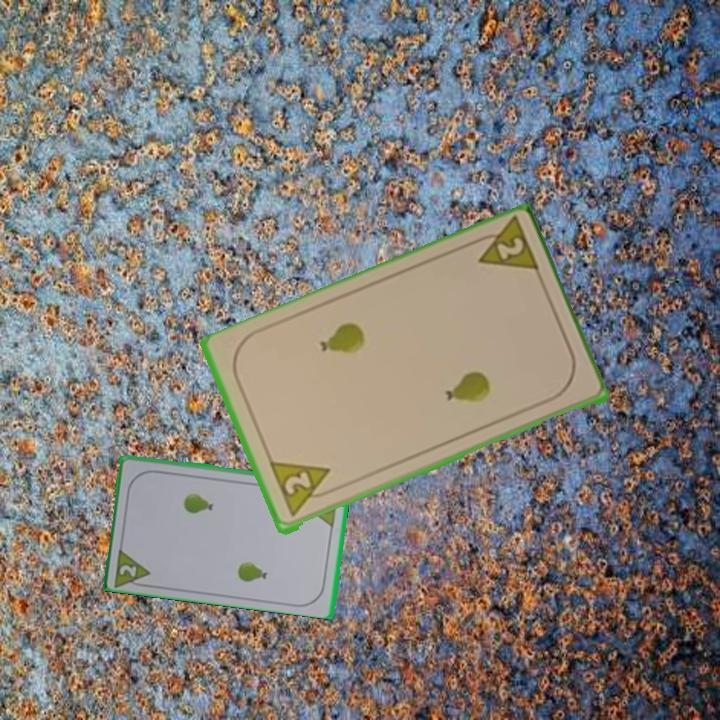2p: (466, 216, 543, 278), (266, 458, 339, 520), (111, 543, 154, 590)
